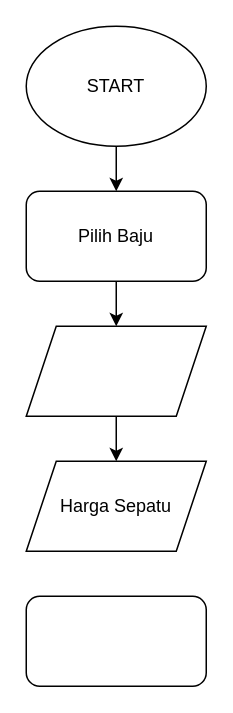
The diagram is 233 pixels wide and 713 high, and some of its shapes have lost their labels. Each missing label, with the box of its shape:
Jumlah Baju: (25, 325, 206, 416)
Total = Harga * Jumlah: (25, 595, 206, 686)
